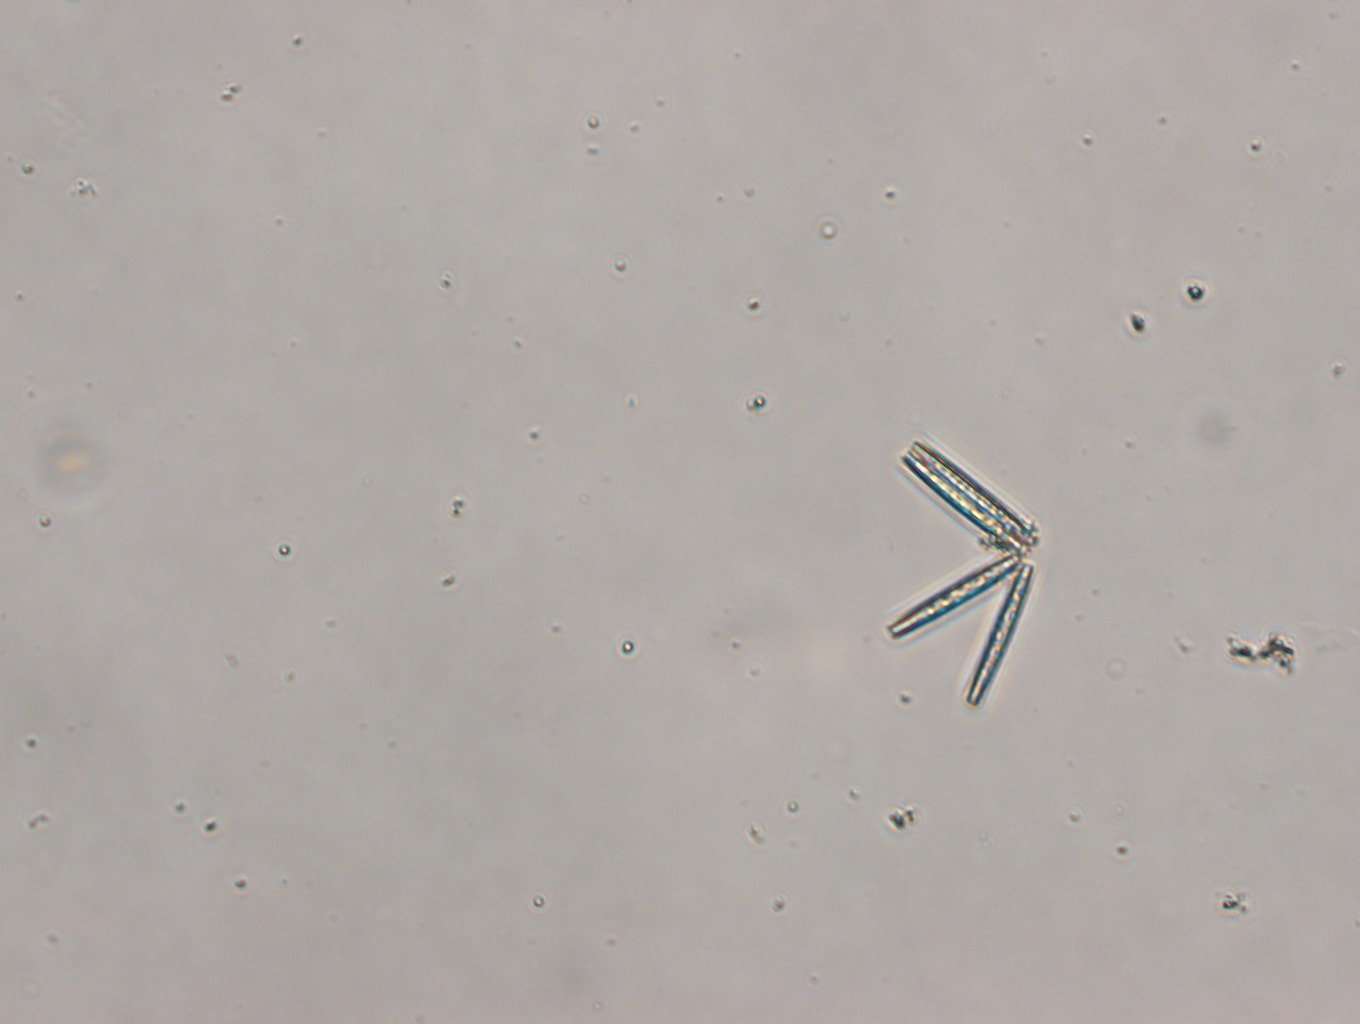thalassionema nitzschioides: (878, 435, 1045, 715)
